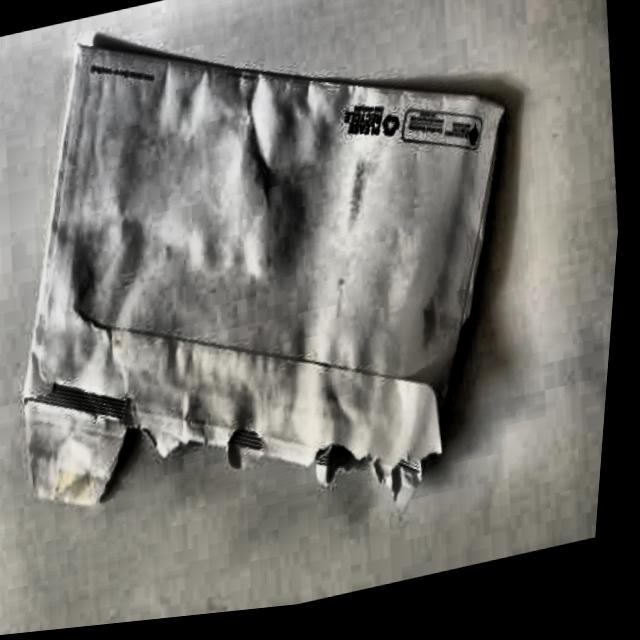Paper: (0, 0, 579, 607)
